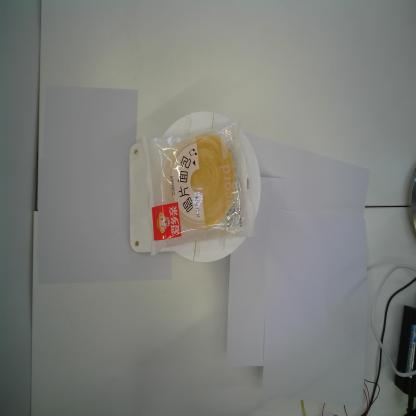Dessert: (138, 119, 258, 259)
